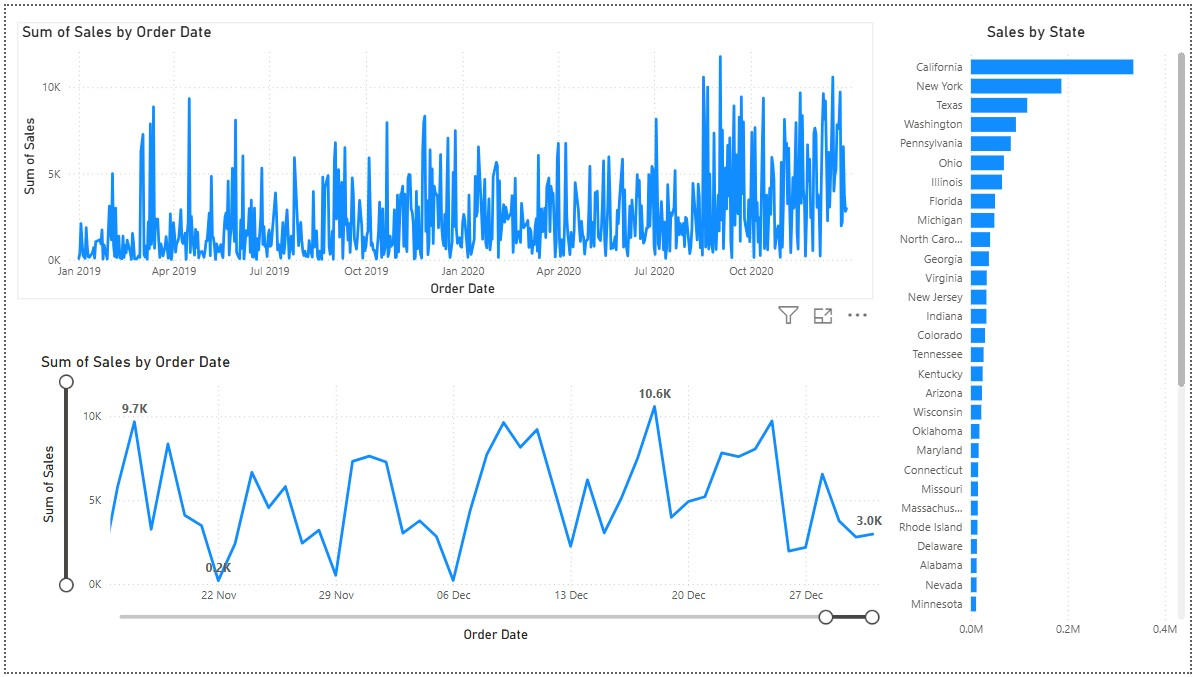

The page's visual inventory and layout, read from the dashboard file:
{"tool":"powerbi","page":{"name":"Page 2","canvas":[1280,720],"ordinal":1},"visuals":[{"type":"lineChart","fields":{"Y":["Sum(SuperStore Sales DataSet.Sales)"],"Category":["SuperStore Sales DataSet.Order Date"]},"box":[9.8,0,928.1,317.9],"z":0},{"type":"lineChart","fields":{"Y":["Sum(SuperStore Sales DataSet.Sales)"],"Category":["SuperStore Sales DataSet.Order Date"]},"box":[31.8,374.2,928.1,317.9],"z":1000},{"type":"barChart","title":"Sales by State","fields":{"Y":["Sum(SuperStore Sales DataSet.Sales)"],"Category":["SuperStore Sales DataSet.State"]},"box":[947.7,0,332.6,660.3],"z":2000}]}

Visuals, with their boxes in screenshot pixels (x1, y1, x2, y2), scaled from the page's 1280x720 canvas onto the 1196x677 screenshot:
lineChart - Sum(SuperStore Sales DataSet.Sales) x SuperStore Sales DataSet.Order Date: bbox=(9, 0, 876, 299)
lineChart - Sum(SuperStore Sales DataSet.Sales) x SuperStore Sales DataSet.Order Date: bbox=(30, 352, 897, 651)
"Sales by State" barChart: bbox=(886, 0, 1195, 621)
